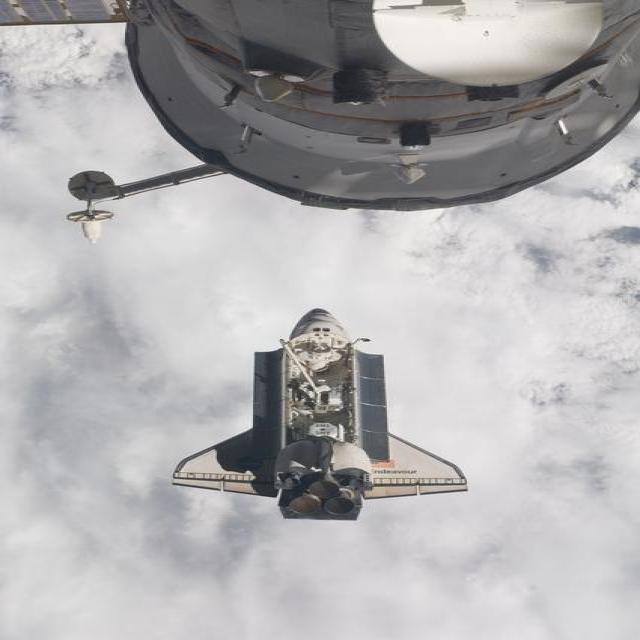satellite: (0, 0, 638, 231), (173, 309, 467, 519)
